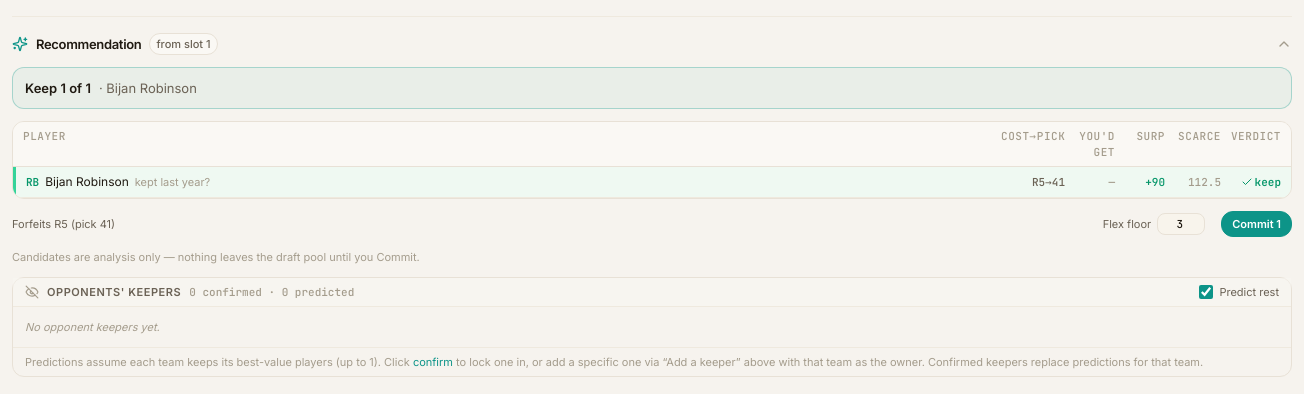
Test: KeeperRecommendations — eligibility overrides › marking 'kept last year?' removes him from the recommendation and lists him as ineligible
Click the button titled "actually kept last year".
click(172, 182)  # box 135,174 -> 210,190
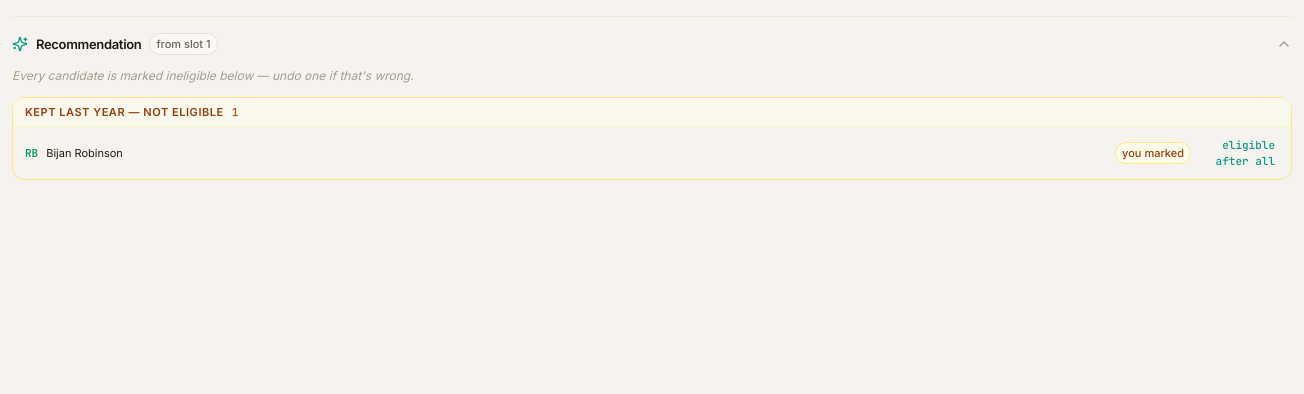
Check: the text "Kept last year — not eligible" is shown, box 25,104 -> 224,120
Check: the text "you marked" is shown, box 1115,142 -> 1191,164
